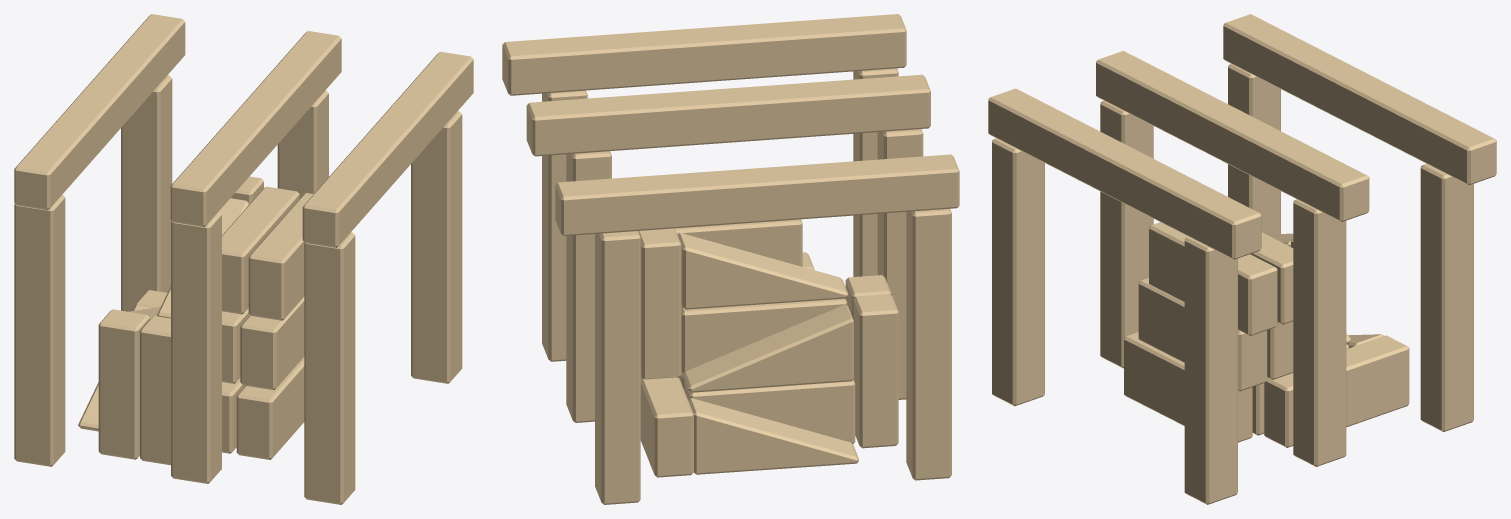
The model's file is COTR_2_i.glb.
3 views of the same model, side by side, from view 1: azimuth 30°, elevation 25°; view 2: azimuth 150°, elevation 25°; view 3: azimuth 270°, elevation 25° (orthographic). The views are drawn at different scales.
Parts seen in each view (by area): view 1: cotr_2_intact; view 2: cotr_2_intact; view 3: cotr_2_intact.
Part boxes in pixels (box(x1,y1,x2,y2)): cotr_2_intact: box(14, 14, 473, 504); cotr_2_intact: box(502, 14, 959, 504); cotr_2_intact: box(988, 14, 1496, 504).
Bounding box in the file's own units: 25.36 × 16.59 × 25.06.
